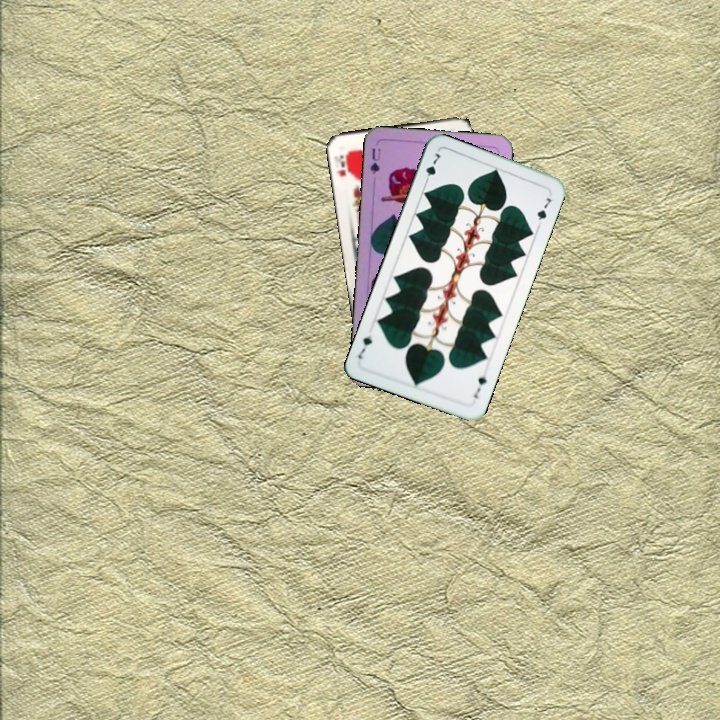G7: (420, 149, 443, 187), (469, 367, 490, 401)
GU: (366, 144, 383, 176)
HK: (334, 147, 353, 179)
